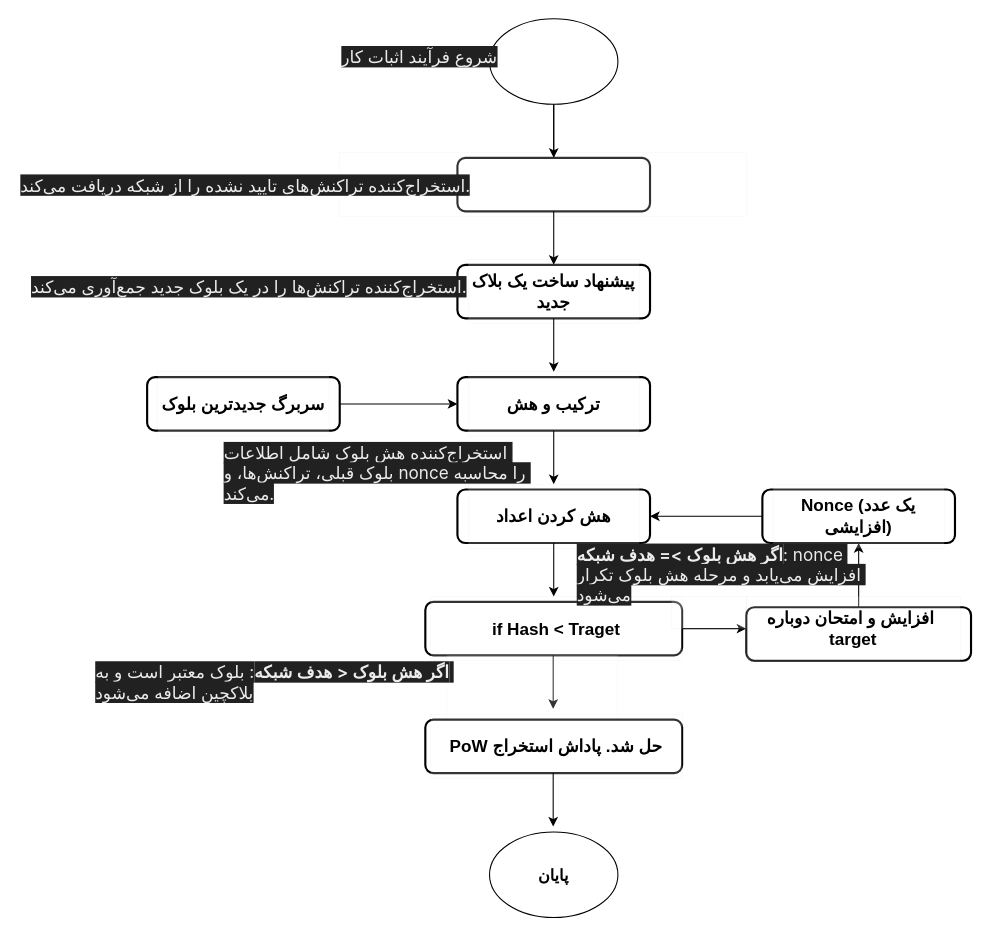
This 990x936 diagram has some shape labels left out. The centre of each missing label's shape, as x and y in pixels:
"بله" goes at (531,687).
"خیر" goes at (708,612).
"دریافت تراکنش ها" goes at (542,184).
"شروع" goes at (553,61).
